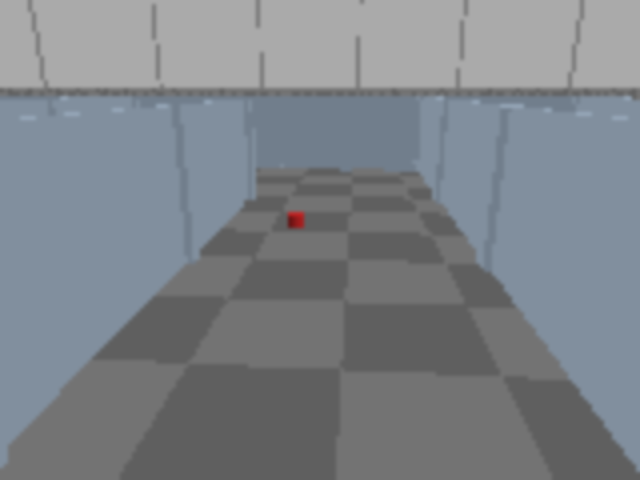puck: (287, 211, 304, 229)
